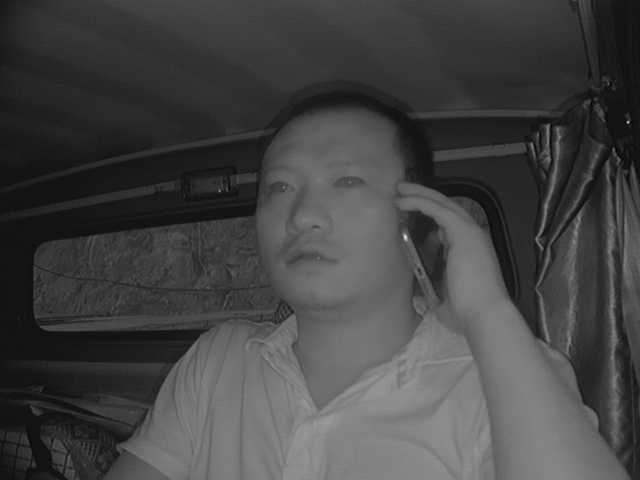hand: (392, 181, 501, 322)
